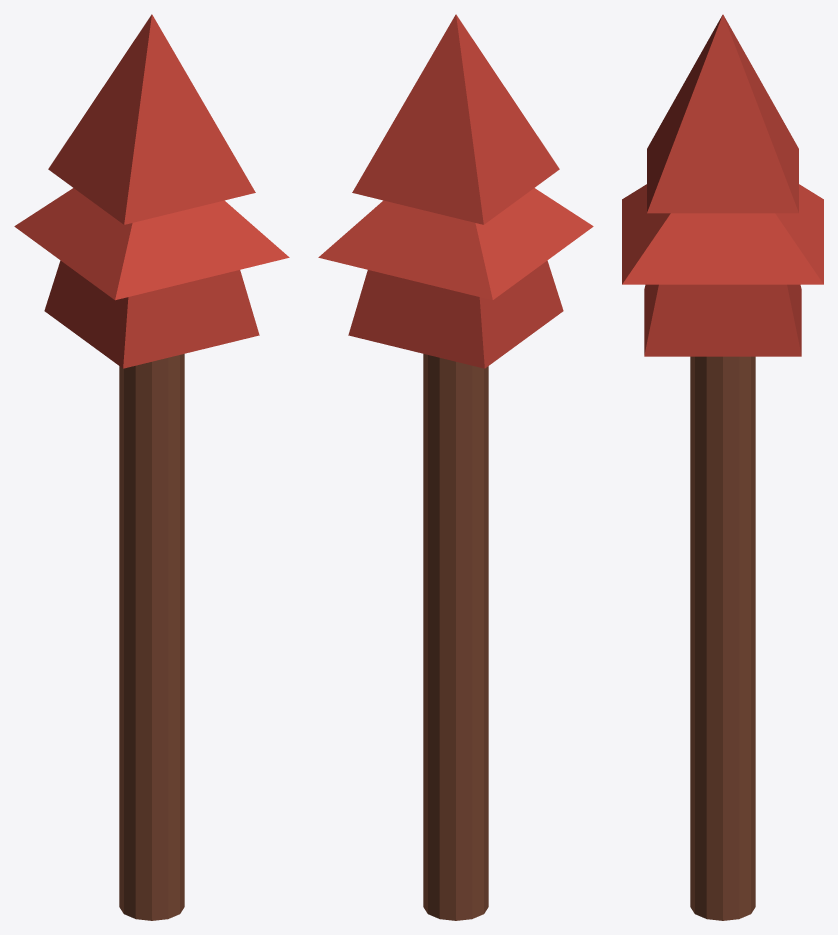
Rendered from Tree_15_summer_red_mat.fbx.
3 renders of one model, left to right at view 1: azimuth 30°, elevation 25°; view 2: azimuth 150°, elevation 25°; view 3: azimuth 270°, elevation 25°, orthographic.
Parts seen in each view (by area): view 1: Tree_15_summer_red_mat; view 2: Tree_15_summer_red_mat; view 3: Tree_15_summer_red_mat.
Part boxes in pixels (bbox=[...]): Tree_15_summer_red_mat: bbox=[14, 14, 289, 920]; Tree_15_summer_red_mat: bbox=[318, 14, 593, 920]; Tree_15_summer_red_mat: bbox=[622, 14, 823, 920].
Bounding box in the file's own units: 68.73 × 336 × 68.73.
